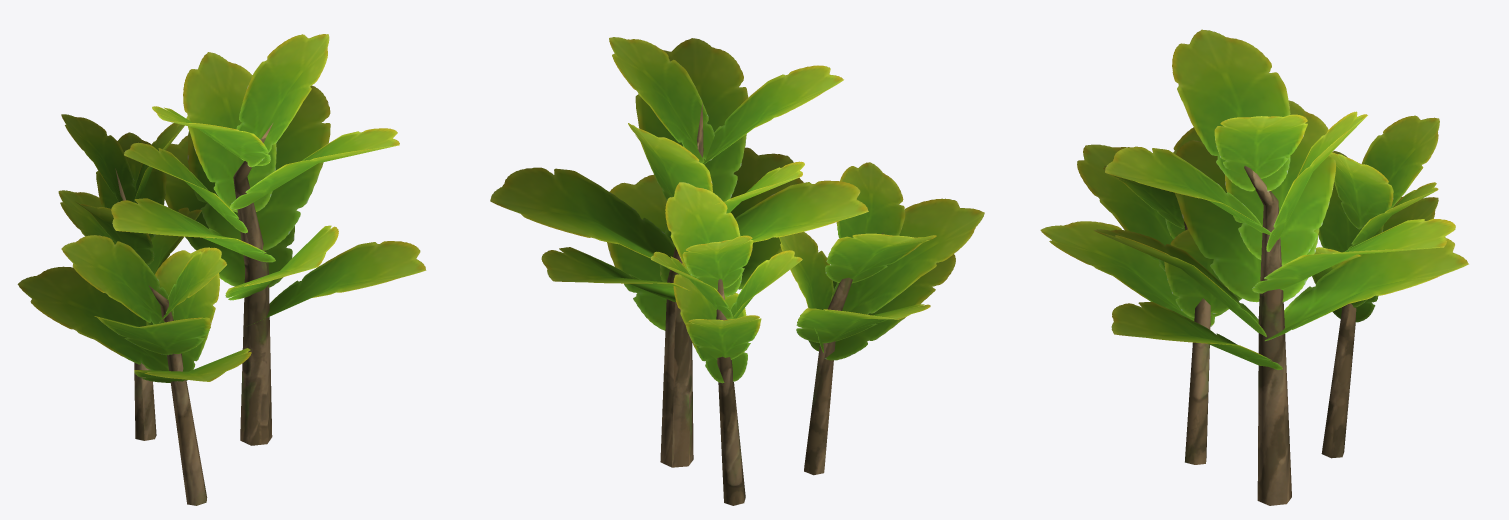
The model's file is P_BushLeafy01.obj.
3 views of the same model, side by side, from view 1: azimuth 30°, elevation 25°; view 2: azimuth 150°, elevation 25°; view 3: azimuth 270°, elevation 25° (orthographic). The views are drawn at different scales.
Bounding box in the file's own units: 1.86 × 1.82 × 1.75.
